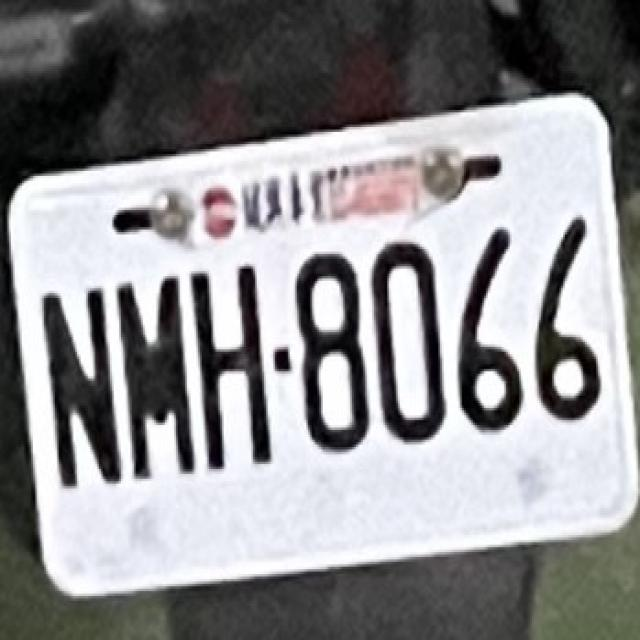license-plate: (6, 90, 640, 604)
